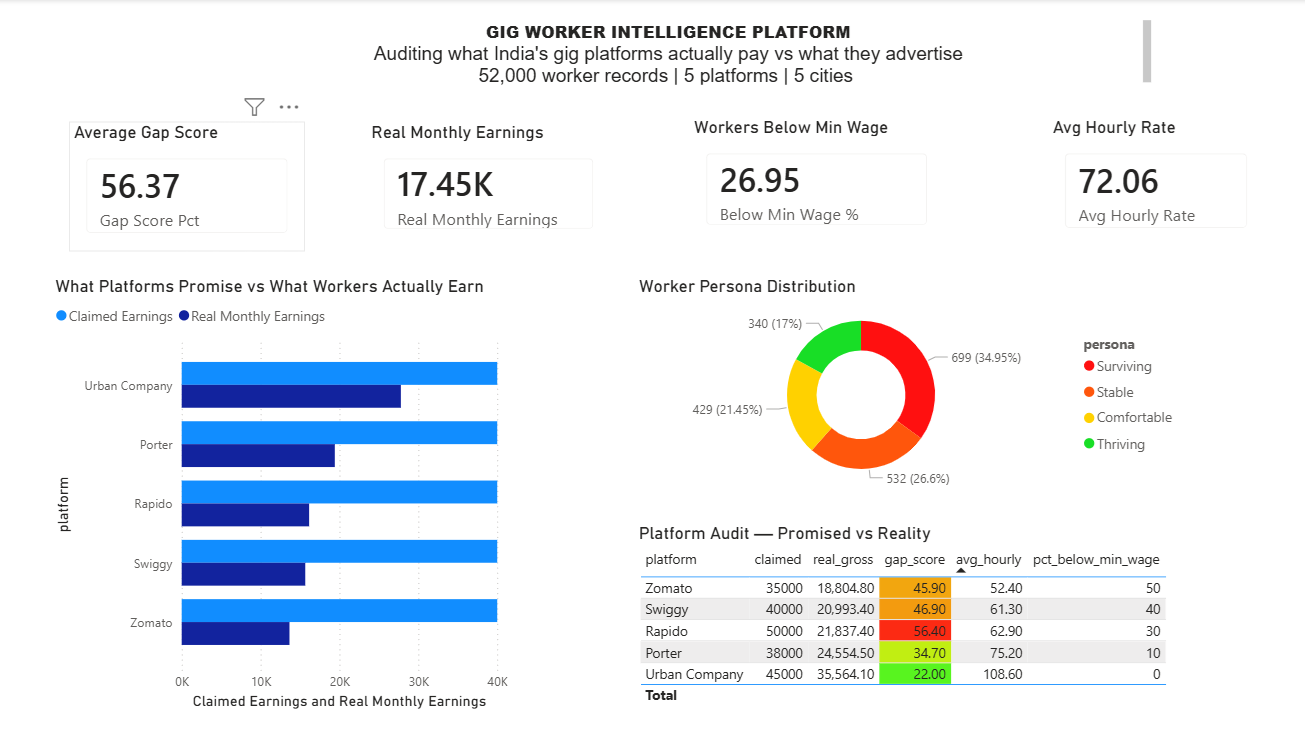

The page's visual inventory and layout, read from the dashboard file:
{"tool":"powerbi","page":{"name":"Truth Dashboard","canvas":[1280,720],"ordinal":0},"visuals":[{"type":"cardVisual","title":"Average Gap Score","fields":{"Data":["gig_monthly_with_personas.Gap Score Pct"]},"box":[68.5,119.8,231.1,127.2],"z":0},{"type":"cardVisual","title":"Real Monthly Earnings","fields":{"Data":["gig_monthly_with_personas.Real Monthly Earnings"]},"box":[359.5,119.8,239.7,122.3],"z":1000},{"type":"cardVisual","title":"Workers Below Min Wage","fields":{"Data":["gig_monthly_with_personas.Below Min Wage %"]},"box":[675,114.9,250.7,123.5],"z":2000},{"type":"cardVisual","title":"Avg Hourly Rate","fields":{"Data":["gig_monthly_with_personas.Avg Hourly Rate"]},"box":[1026,114.9,212.8,127.2],"z":3000},{"type":"clusteredBarChart","title":"What Platforms Promise vs What Workers Actually Earn","fields":{"Category":["gig_monthly_with_personas.platform"],"Y":["gig_monthly_with_personas.Claimed Earnings","gig_monthly_with_personas.Real Monthly Earnings"]},"box":[50.1,270.2,452.4,429.2],"z":4000},{"type":"donutChart","title":"Worker Persona Distribution","fields":{"Category":["gig_monthly_with_personas.persona"],"Y":["CountNonNull(gig_monthly_with_personas.worker_id)"]},"box":[621.2,270.2,540.5,215.2],"z":5000},{"type":"tableEx","title":"Platform Audit — Promised vs Reality","fields":{"Values":["platform_audit.platform","platform_audit.claimed","platform_audit.real_gross","platform_audit.gap_score","platform_audit.avg_hourly","platform_audit.pct_below_min_wage"]},"box":[621.2,512.4,562.5,187.1],"z":6000},{"type":"textbox","box":[184.6,15.9,947.7,73.4],"z":7000}]}

Visuals, with their boxes in screenshot pixels (x1, y1, x2, y2), scaled from the page's 1280x720 canvas onto the 1307x735 screenshot:
"Average Gap Score" cardVisual: BBox(70, 122, 306, 252)
"Real Monthly Earnings" cardVisual: BBox(367, 122, 612, 247)
"Workers Below Min Wage" cardVisual: BBox(689, 117, 945, 243)
"Avg Hourly Rate" cardVisual: BBox(1048, 117, 1265, 247)
"What Platforms Promise vs What Workers Actually Earn" clusteredBarChart: BBox(51, 276, 513, 714)
"Worker Persona Distribution" donutChart: BBox(634, 276, 1186, 496)
"Platform Audit — Promised vs Reality" tableEx: BBox(634, 523, 1209, 714)
textbox: BBox(188, 16, 1156, 91)
